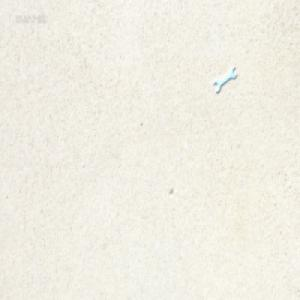Wrench: (212, 67, 237, 94)
